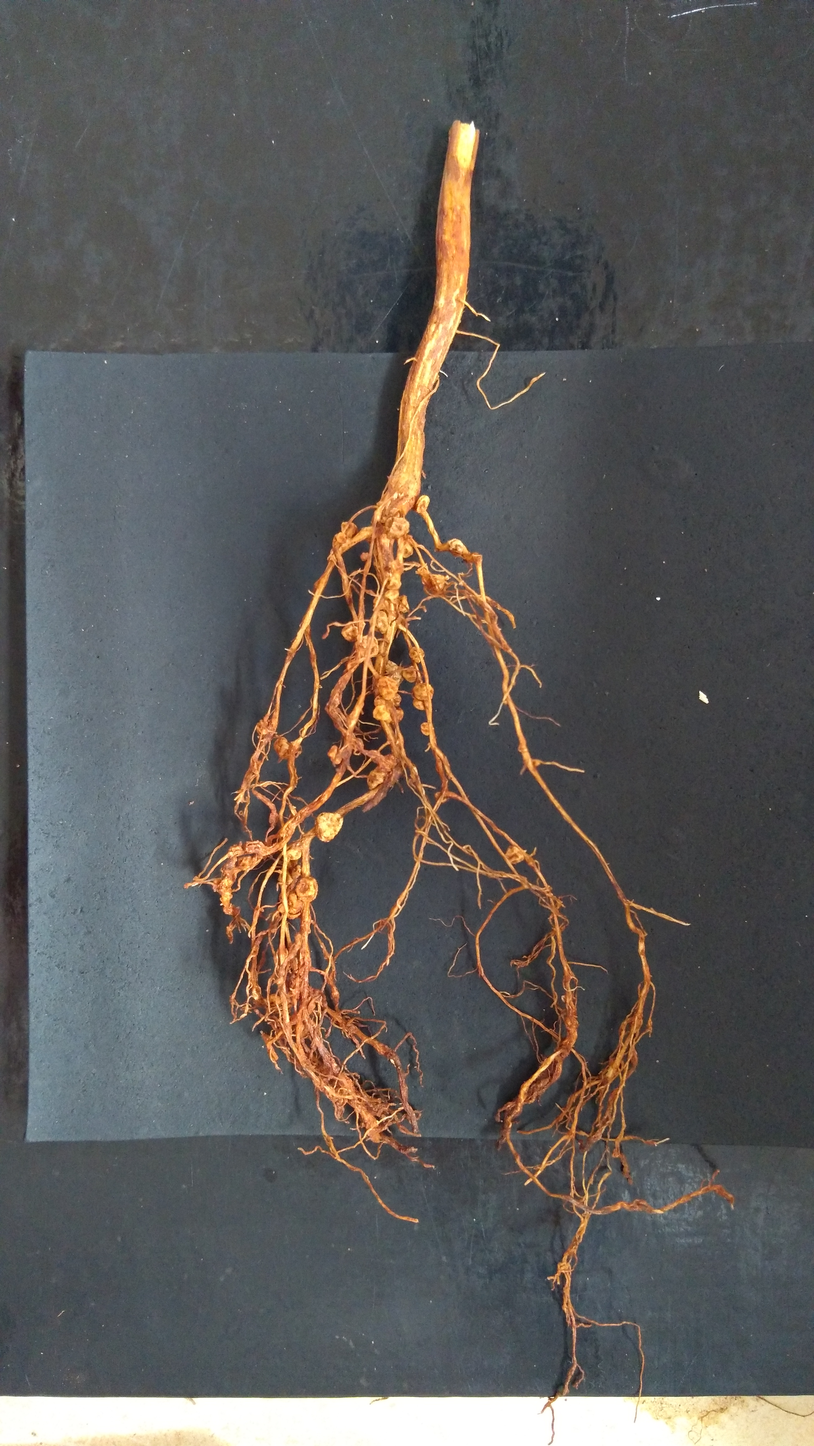nodule: (277, 885, 305, 919), (314, 811, 343, 843), (370, 506, 400, 535), (384, 516, 410, 540), (360, 525, 379, 557), (325, 1084, 350, 1108), (295, 876, 318, 902), (384, 659, 406, 685), (421, 573, 449, 593), (356, 633, 378, 658), (372, 695, 391, 723), (377, 675, 398, 700), (290, 1011, 310, 1037), (366, 765, 387, 789), (446, 538, 470, 558), (369, 609, 389, 633), (387, 558, 401, 590), (377, 753, 397, 774), (307, 987, 327, 1008), (412, 683, 435, 701), (273, 736, 290, 760), (340, 621, 359, 642), (504, 845, 525, 864), (398, 534, 413, 558), (285, 841, 303, 860), (267, 994, 283, 1015), (288, 974, 302, 998), (242, 840, 266, 854), (372, 595, 390, 613), (340, 522, 359, 539), (255, 718, 272, 736), (220, 857, 236, 876), (327, 745, 342, 765), (312, 1075, 329, 1092), (409, 645, 425, 663), (402, 665, 418, 683), (366, 1125, 382, 1143), (277, 868, 292, 887), (237, 854, 255, 869), (415, 495, 429, 513), (396, 594, 410, 612), (390, 706, 403, 725), (384, 589, 400, 604), (338, 1075, 354, 1090), (412, 696, 427, 711), (227, 843, 243, 857), (564, 1015, 578, 1031), (289, 956, 301, 974), (434, 791, 449, 804), (275, 948, 289, 961), (212, 878, 223, 894), (353, 737, 364, 752), (290, 864, 301, 879), (223, 903, 236, 915), (420, 721, 431, 735), (335, 531, 347, 543), (219, 892, 233, 902), (391, 693, 401, 706), (294, 932, 303, 946), (360, 551, 369, 562), (269, 812, 278, 823), (270, 927, 277, 933), (359, 1121, 365, 1128), (192, 876, 199, 881)
